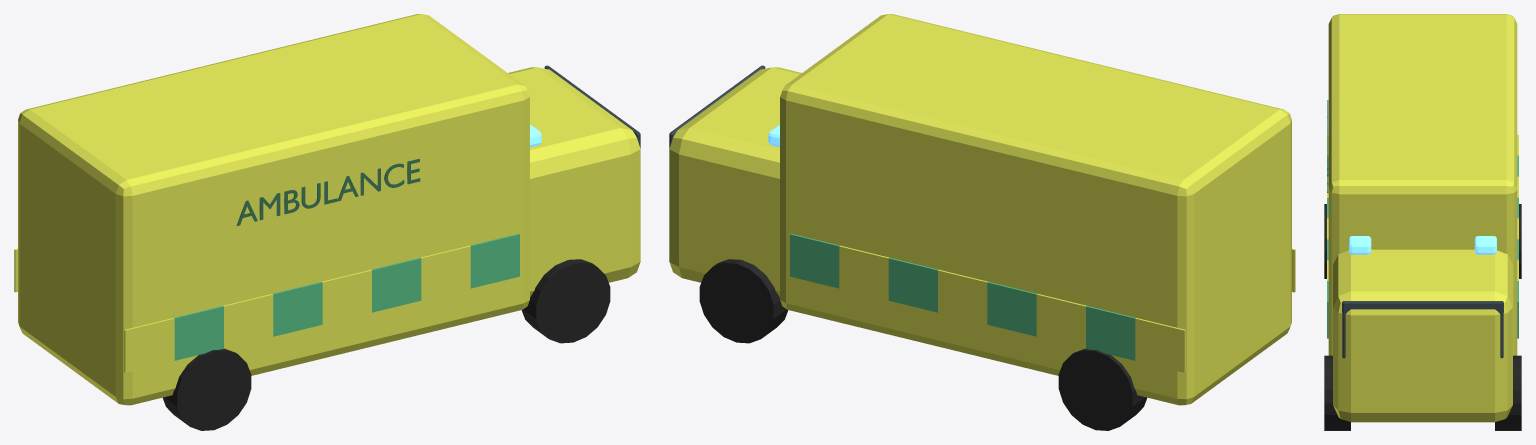
Rendered from ambulance.glb.
The picture shows the model from 3 angles, left to right: view 1: azimuth 30°, elevation 25°; view 2: azimuth 150°, elevation 25°; view 3: azimuth 270°, elevation 25°; orthographic projection. The views are drawn at different scales.
Parts seen in each view (by area): view 1: Ambulance yellow, Rubber black, Ambulance green, Amb label; view 2: Ambulance yellow, Rubber black, Ambulance green; view 3: Ambulance yellow, Rubber black, Windscreen, Blue beacon, Ambulance green.
Part boxes in pixels (x1,y1,x2,y2): Ambulance yellow: [14, 14, 640, 405]; Rubber black: [163, 259, 610, 430]; Ambulance green: [174, 233, 519, 360]; Amb label: [236, 158, 420, 225]; Ambulance yellow: [669, 14, 1295, 405]; Rubber black: [699, 259, 1146, 430]; Ambulance green: [790, 233, 1135, 360]; Ambulance yellow: [1327, 14, 1518, 422]; Rubber black: [1324, 204, 1521, 430]; Windscreen: [1342, 301, 1503, 358]; Blue beacon: [1349, 236, 1496, 254]; Ambulance green: [1327, 155, 1518, 338].
Bounding box in the file's own units: 5.9 × 2.8 × 2.2.
